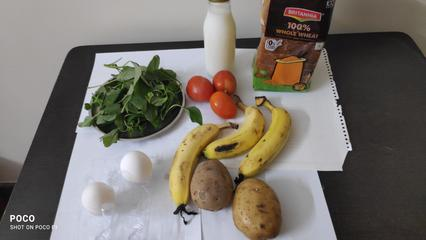banana: (212, 110, 298, 173), (167, 124, 209, 213)
bread: (260, 3, 323, 101)
eggs: (75, 148, 154, 218)
milk: (202, 2, 242, 71)
potato: (222, 178, 281, 233), (193, 158, 230, 214)
spinach: (109, 78, 167, 127)
tomato: (187, 67, 243, 114)
